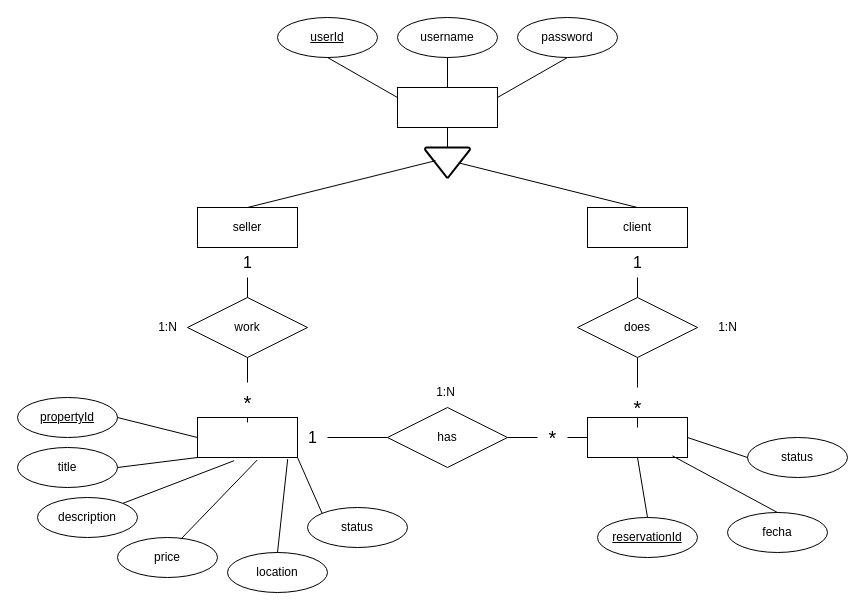
This 865x610 diagram has some shape labels left out. The shapes that lost their labels are listed below. From the top down, each one's centre as x and y in pixels, then its label:
(x=447, y=107): user
(x=247, y=437): propierty
(x=637, y=437): reservation
